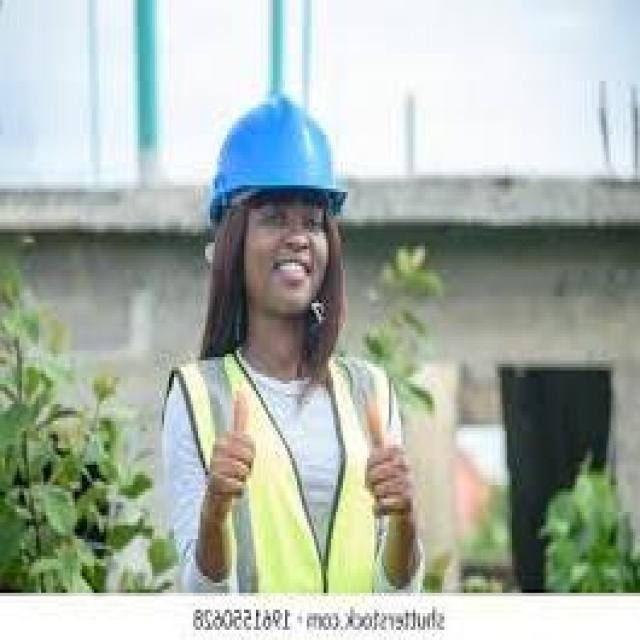Reflective-Jacket: (162, 337, 415, 596)
Safety-Helmet: (193, 81, 360, 236)
